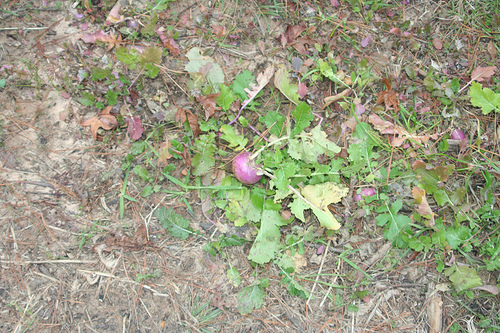turnip: (231, 149, 262, 184), (352, 183, 380, 212), (449, 125, 468, 145)
